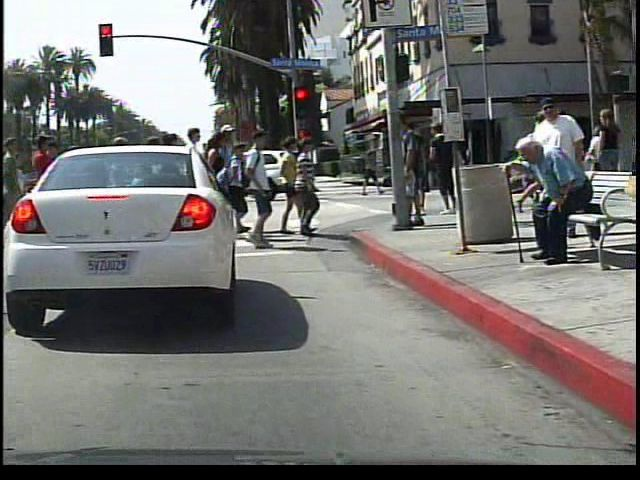person: (503, 137, 597, 268), (354, 141, 381, 196)
